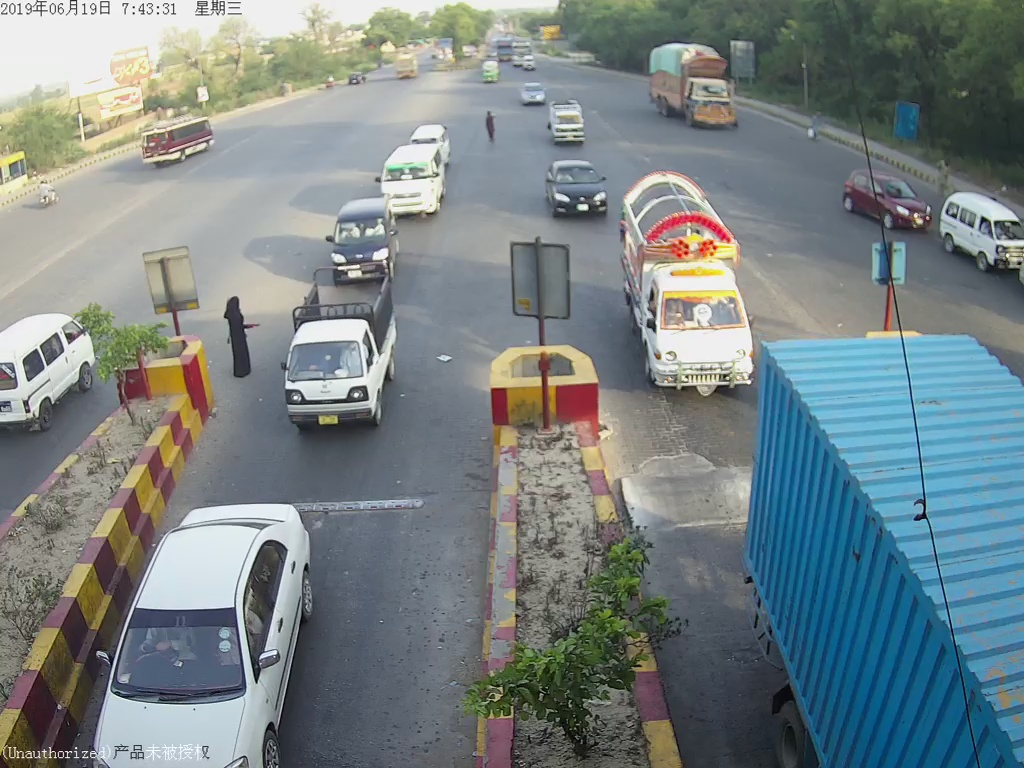Cat-1: (280, 268, 406, 439), (546, 163, 607, 222)
Cat-2: (619, 168, 761, 402), (380, 142, 443, 215)
